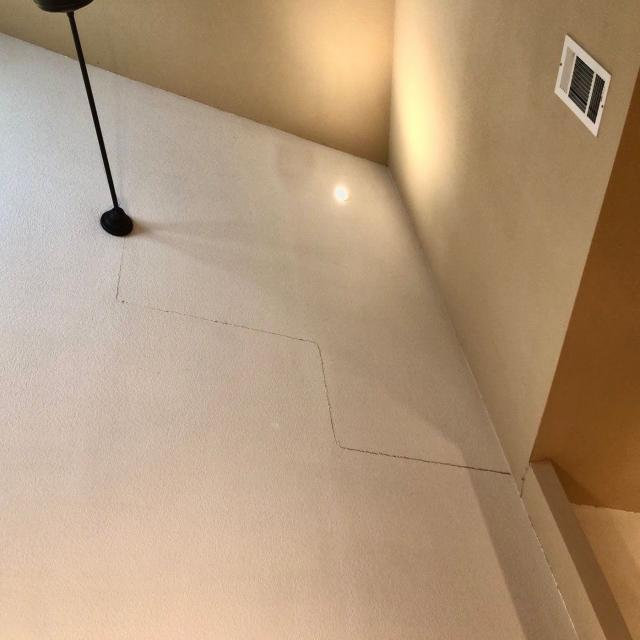Crack: (119, 296, 310, 344), (338, 436, 512, 478), (311, 339, 338, 449), (115, 234, 127, 298)
